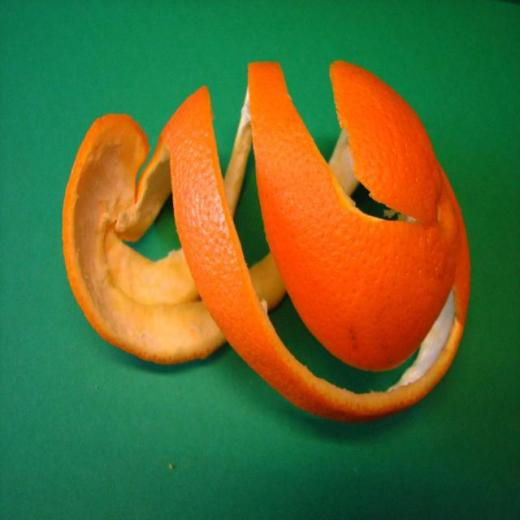Grape: (67, 59, 471, 420)
